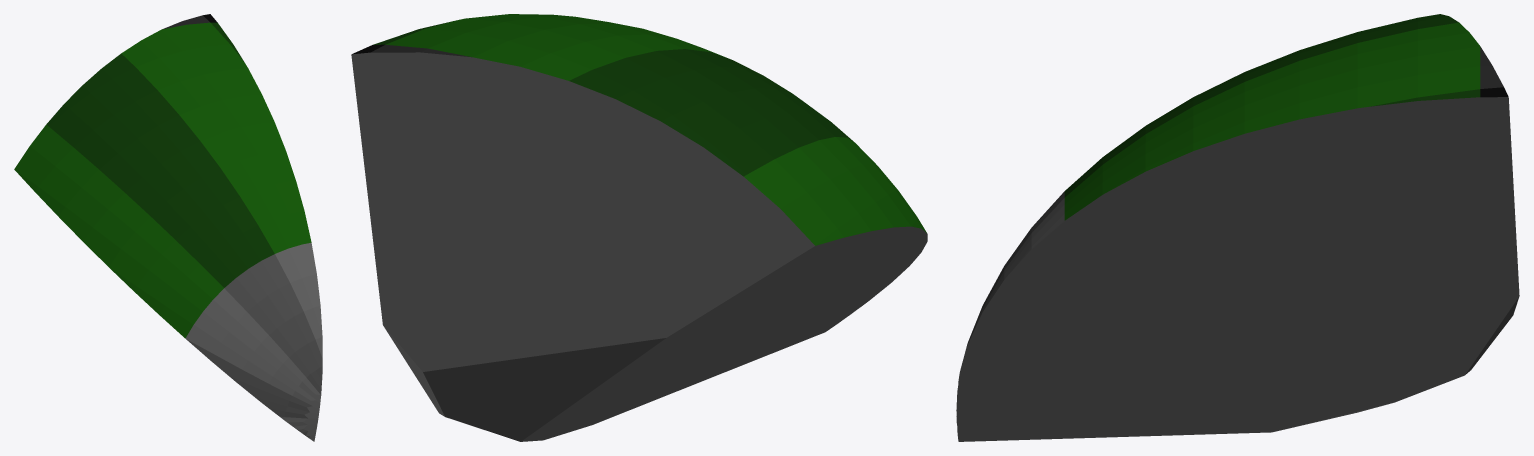
File: Mortarmellon piece7.glb
3 renders of one model, left to right at view 1: azimuth 30°, elevation 25°; view 2: azimuth 150°, elevation 25°; view 3: azimuth 270°, elevation 25°, orthographic. The views are drawn at different scales.
Parts seen in each view (by area): view 1: Mortarmelon Body_cell.006; view 2: Mortarmelon Body_cell.006; view 3: Mortarmelon Body_cell.006.
Boxes of the visible parts, x1,y1,x2,y2 form: Mortarmelon Body_cell.006: (14, 14, 322, 441); Mortarmelon Body_cell.006: (351, 14, 927, 441); Mortarmelon Body_cell.006: (956, 14, 1519, 441).
Bounding box in the file's own units: 0.8938 × 1.04 × 1.28.
